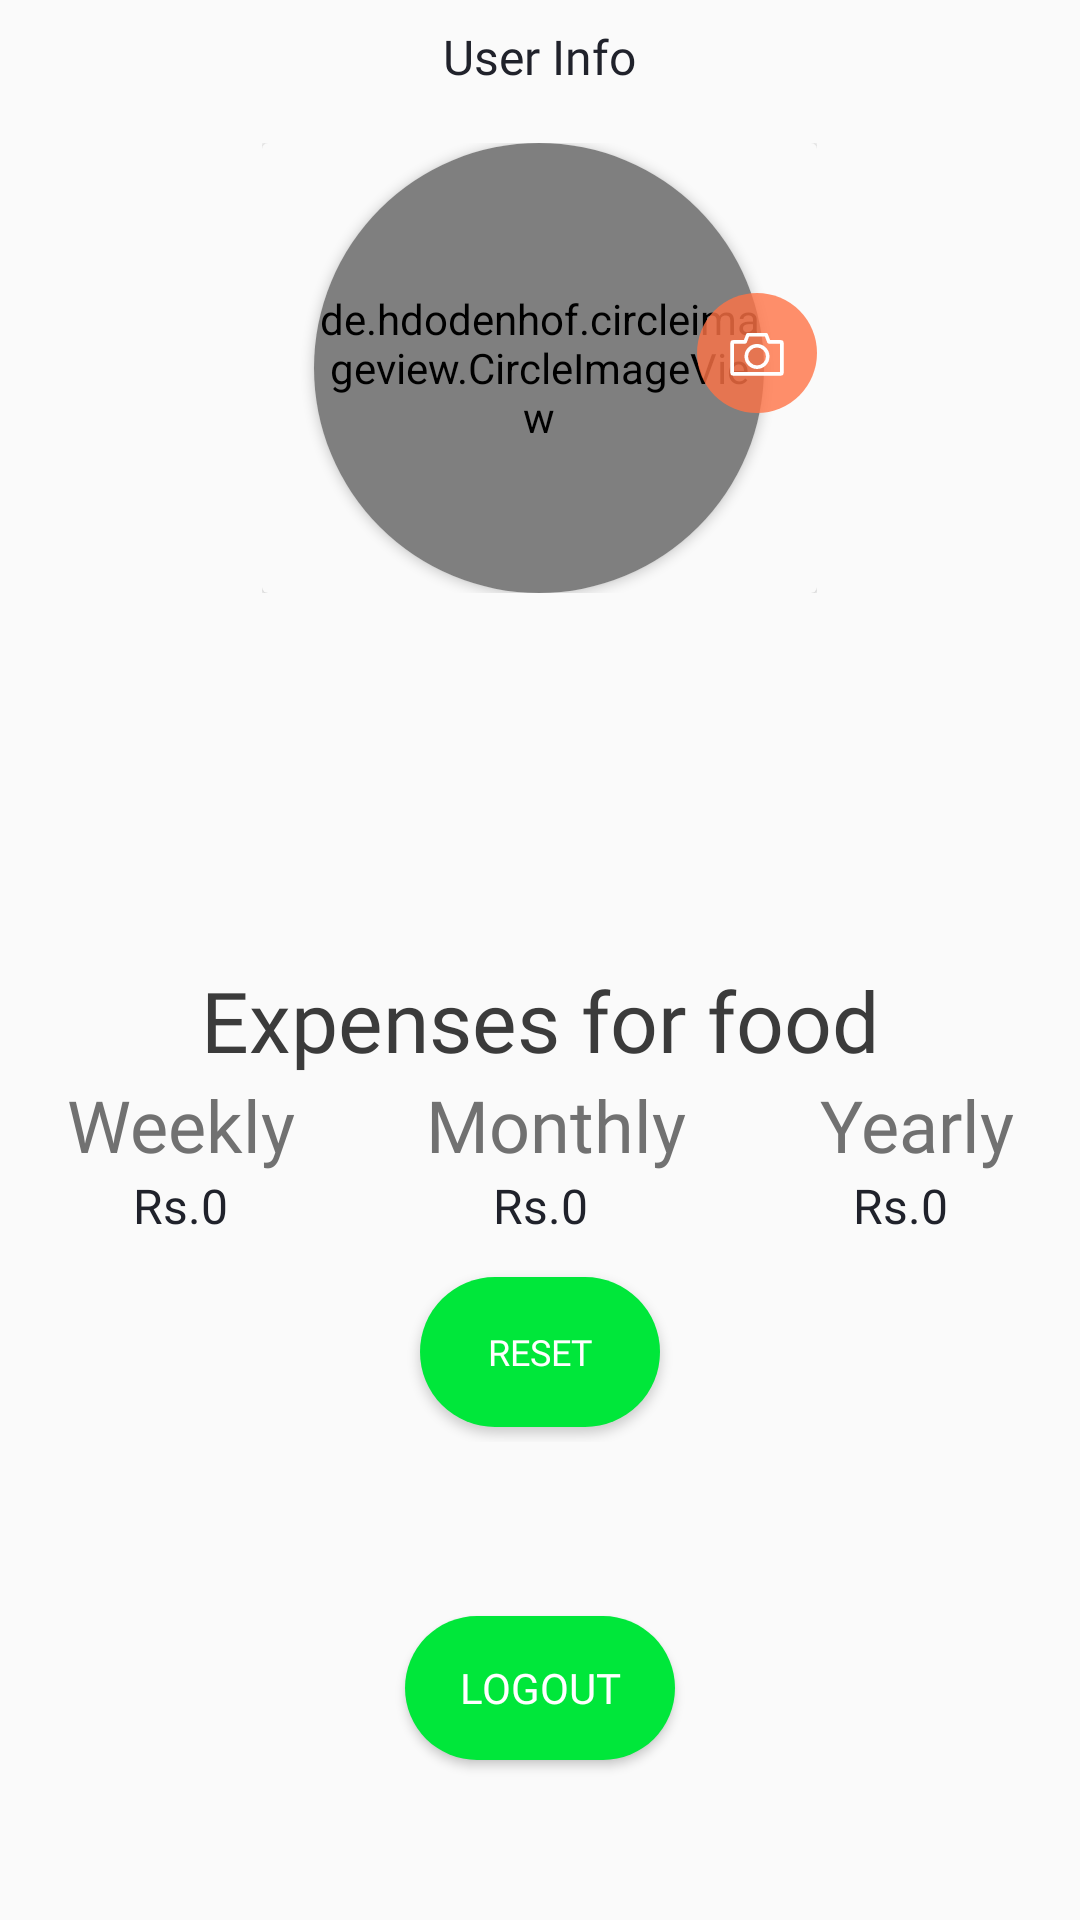

Screen size 1080×1920. Icon name, then its center in pixels as (x,y):
camera: (757,353)
